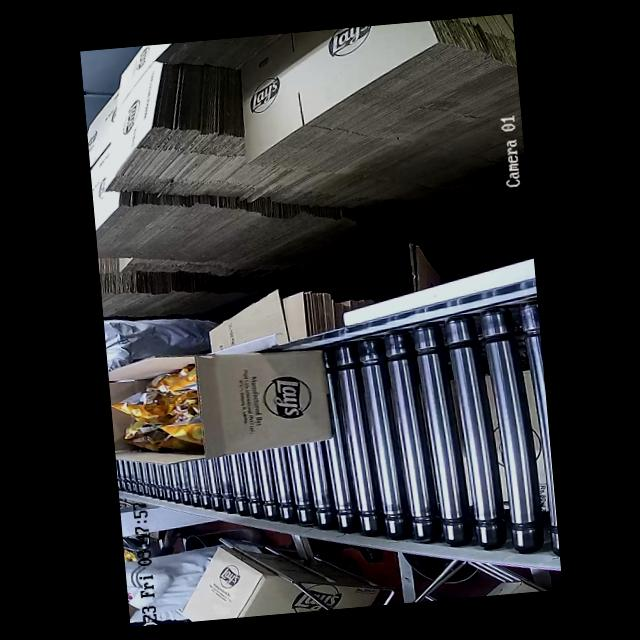cheese: (105, 344, 220, 471)
